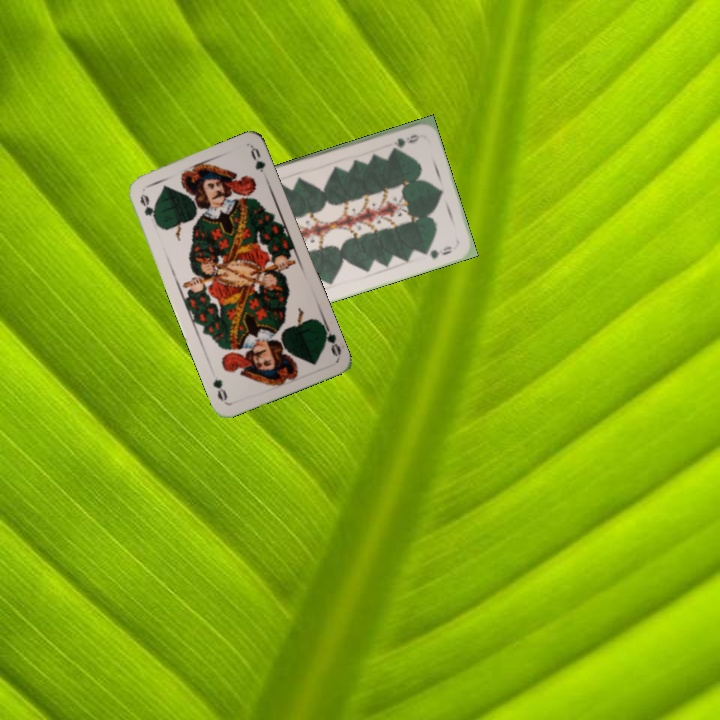G9: (388, 130, 422, 151)
GO: (318, 319, 344, 359), (136, 190, 160, 227)
